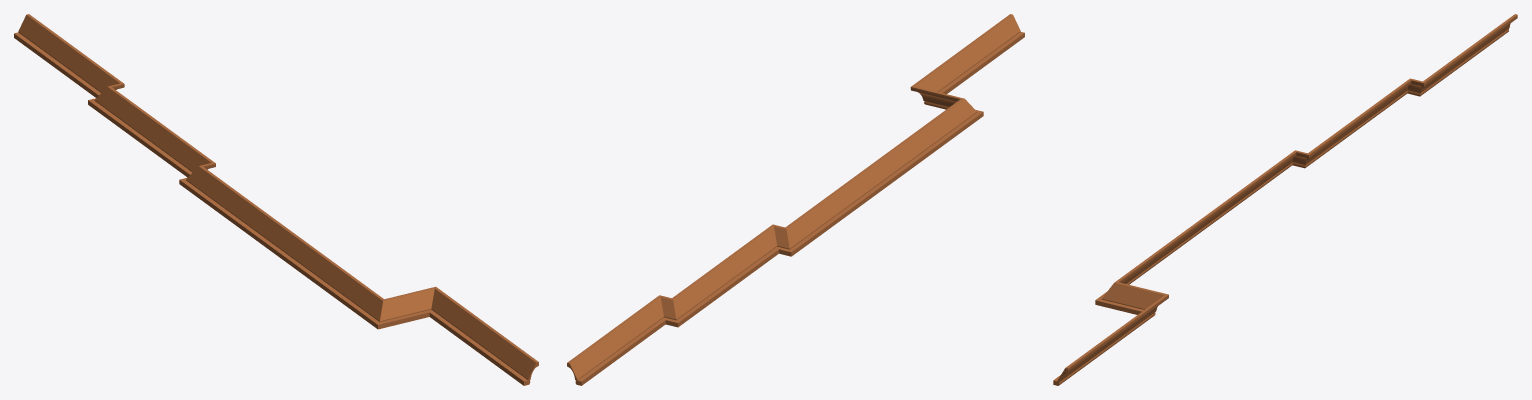
The model's file is kitchen_top.dae.
The picture shows the model from 3 angles, left to right: view 1: azimuth 30°, elevation 25°; view 2: azimuth 150°, elevation 25°; view 3: azimuth 330°, elevation 25°; orthographic projection. The views are drawn at different scales.
Visible parts, largest first — view 1: Group_23, group_0; view 2: Group_23, group_0; view 3: Group_23, group_0.
Part boxes in pixels (<box>): Group_23: <box>18,14,538,384</box>; group_0: <box>14,32,528,385</box>; Group_23: <box>567,14,1020,384</box>; group_0: <box>577,32,1024,385</box>; Group_23: <box>1057,14,1517,385</box>; group_0: <box>1053,292,1143,385</box>.
Size of the model in its own units: 15.5 by 195 by 4.5.
